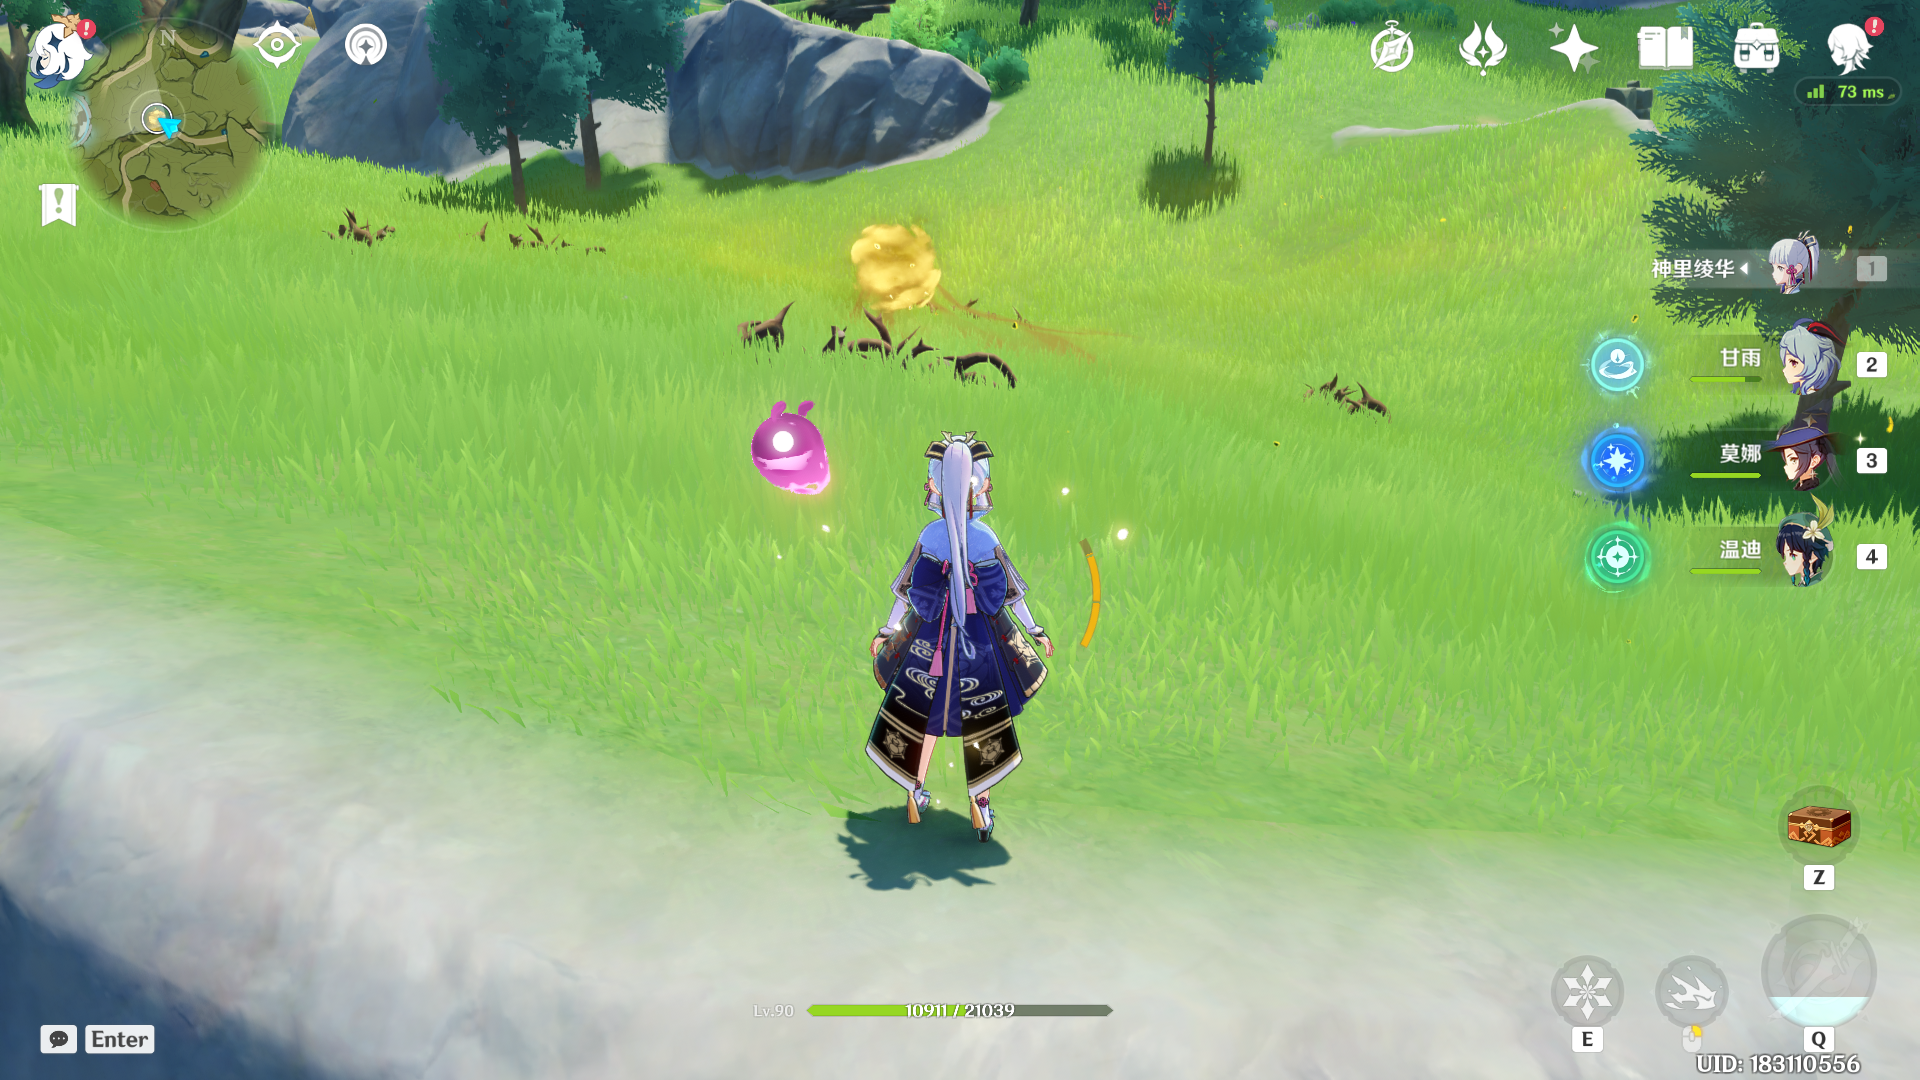character: (815, 396, 1077, 885)
